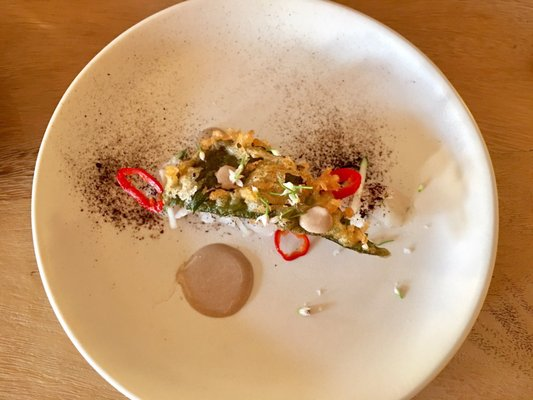sushi: (29, 1, 528, 400)
